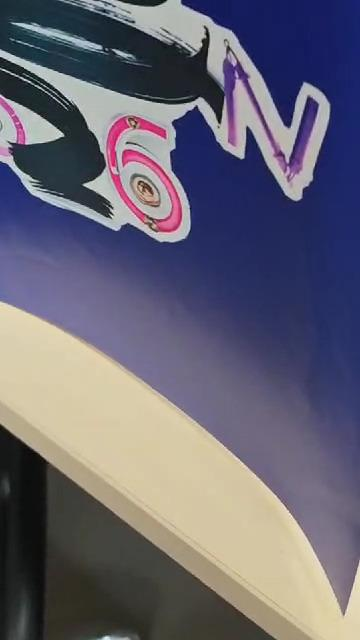B_R1: (0, 0, 348, 283)
